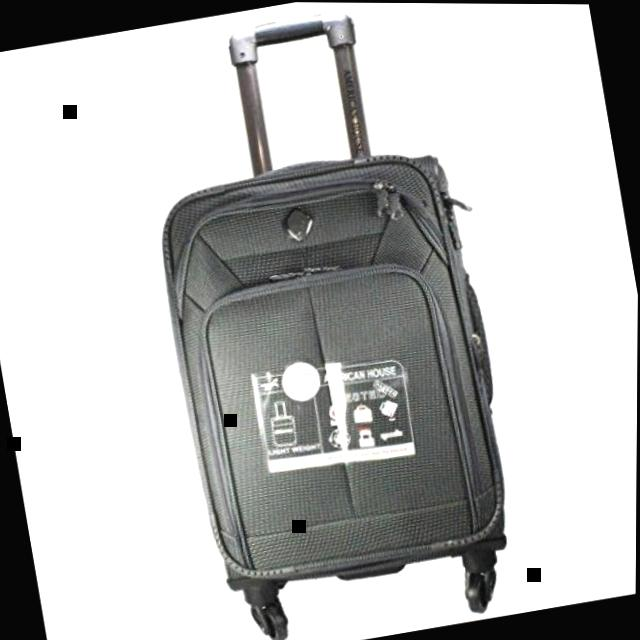luggage: (139, 127, 530, 607)
